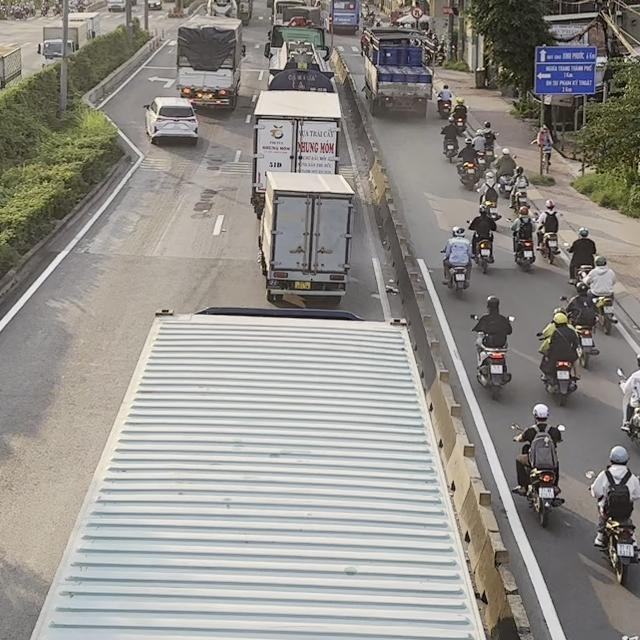car: (142, 96, 198, 144)
motorcycle: (585, 469, 640, 587), (509, 423, 565, 527), (469, 313, 515, 400), (536, 332, 581, 406), (559, 295, 599, 369), (616, 367, 640, 451), (440, 241, 474, 296), (507, 217, 537, 272), (563, 241, 595, 292), (466, 219, 496, 273), (534, 211, 563, 264), (494, 154, 517, 197), (596, 291, 618, 335), (456, 154, 482, 191), (508, 177, 528, 211), (440, 130, 460, 163), (483, 131, 499, 168), (450, 105, 469, 134), (436, 92, 452, 118)
truck: (24, 306, 521, 639), (256, 170, 356, 306), (249, 88, 342, 216), (360, 26, 434, 118), (175, 14, 244, 111), (264, 24, 336, 94)
